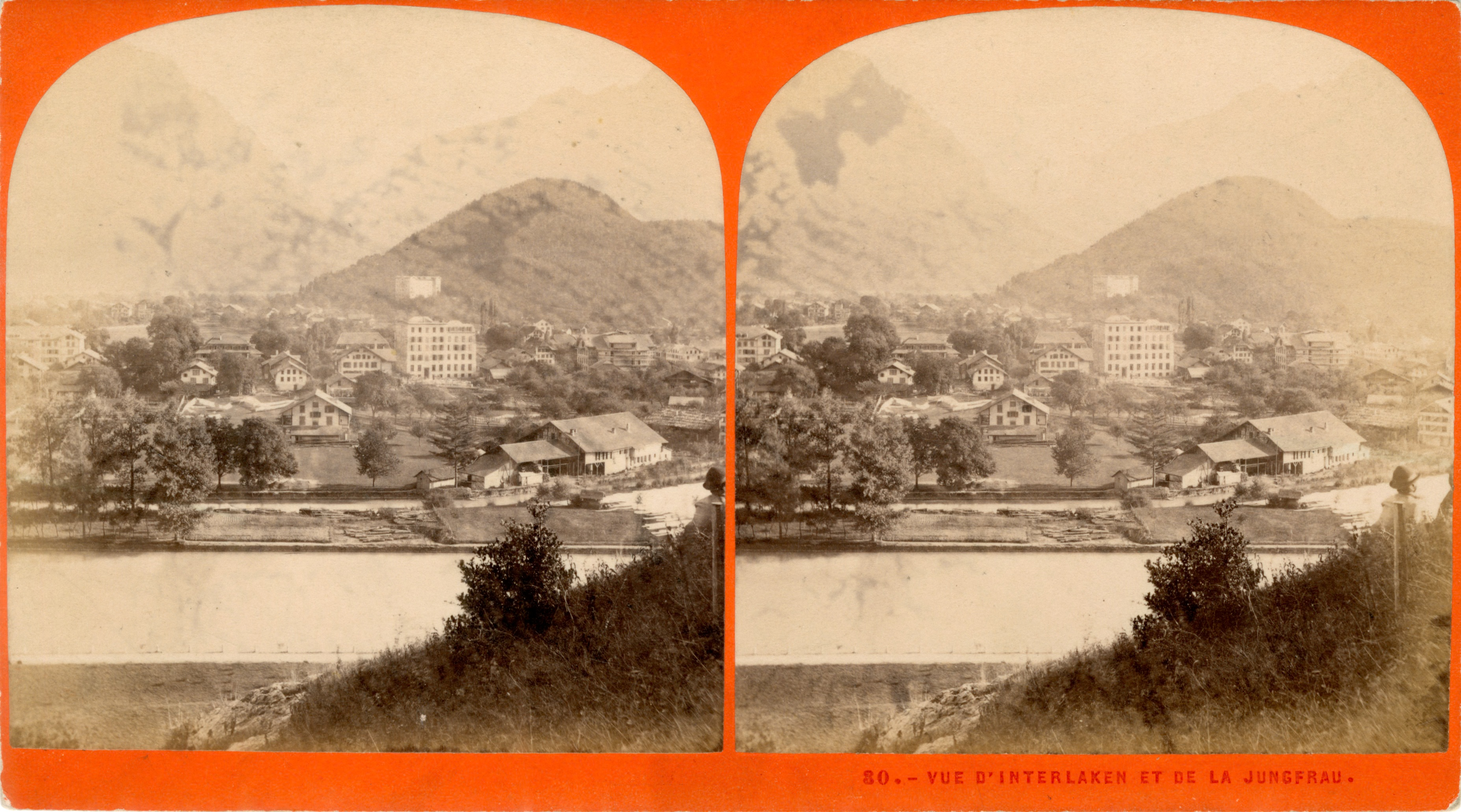half_image: (8, 3, 726, 752), (735, 7, 1455, 751)
